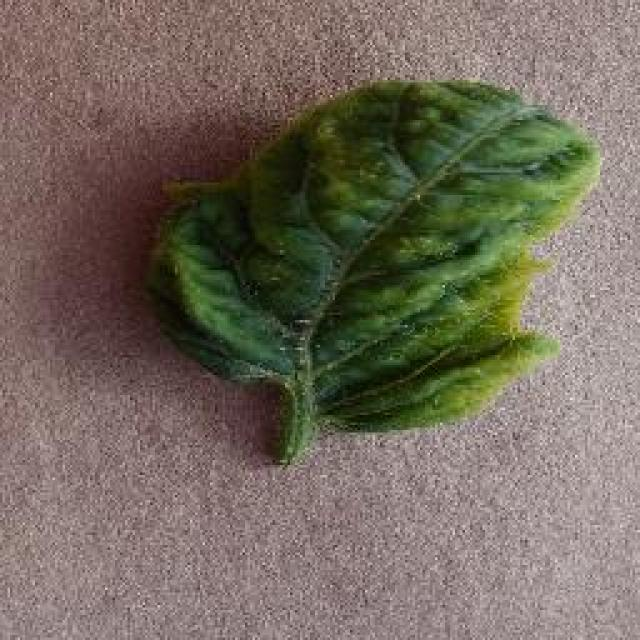Tom_Yellow_Leaf_Curl_Virus: (270, 88, 576, 414)
